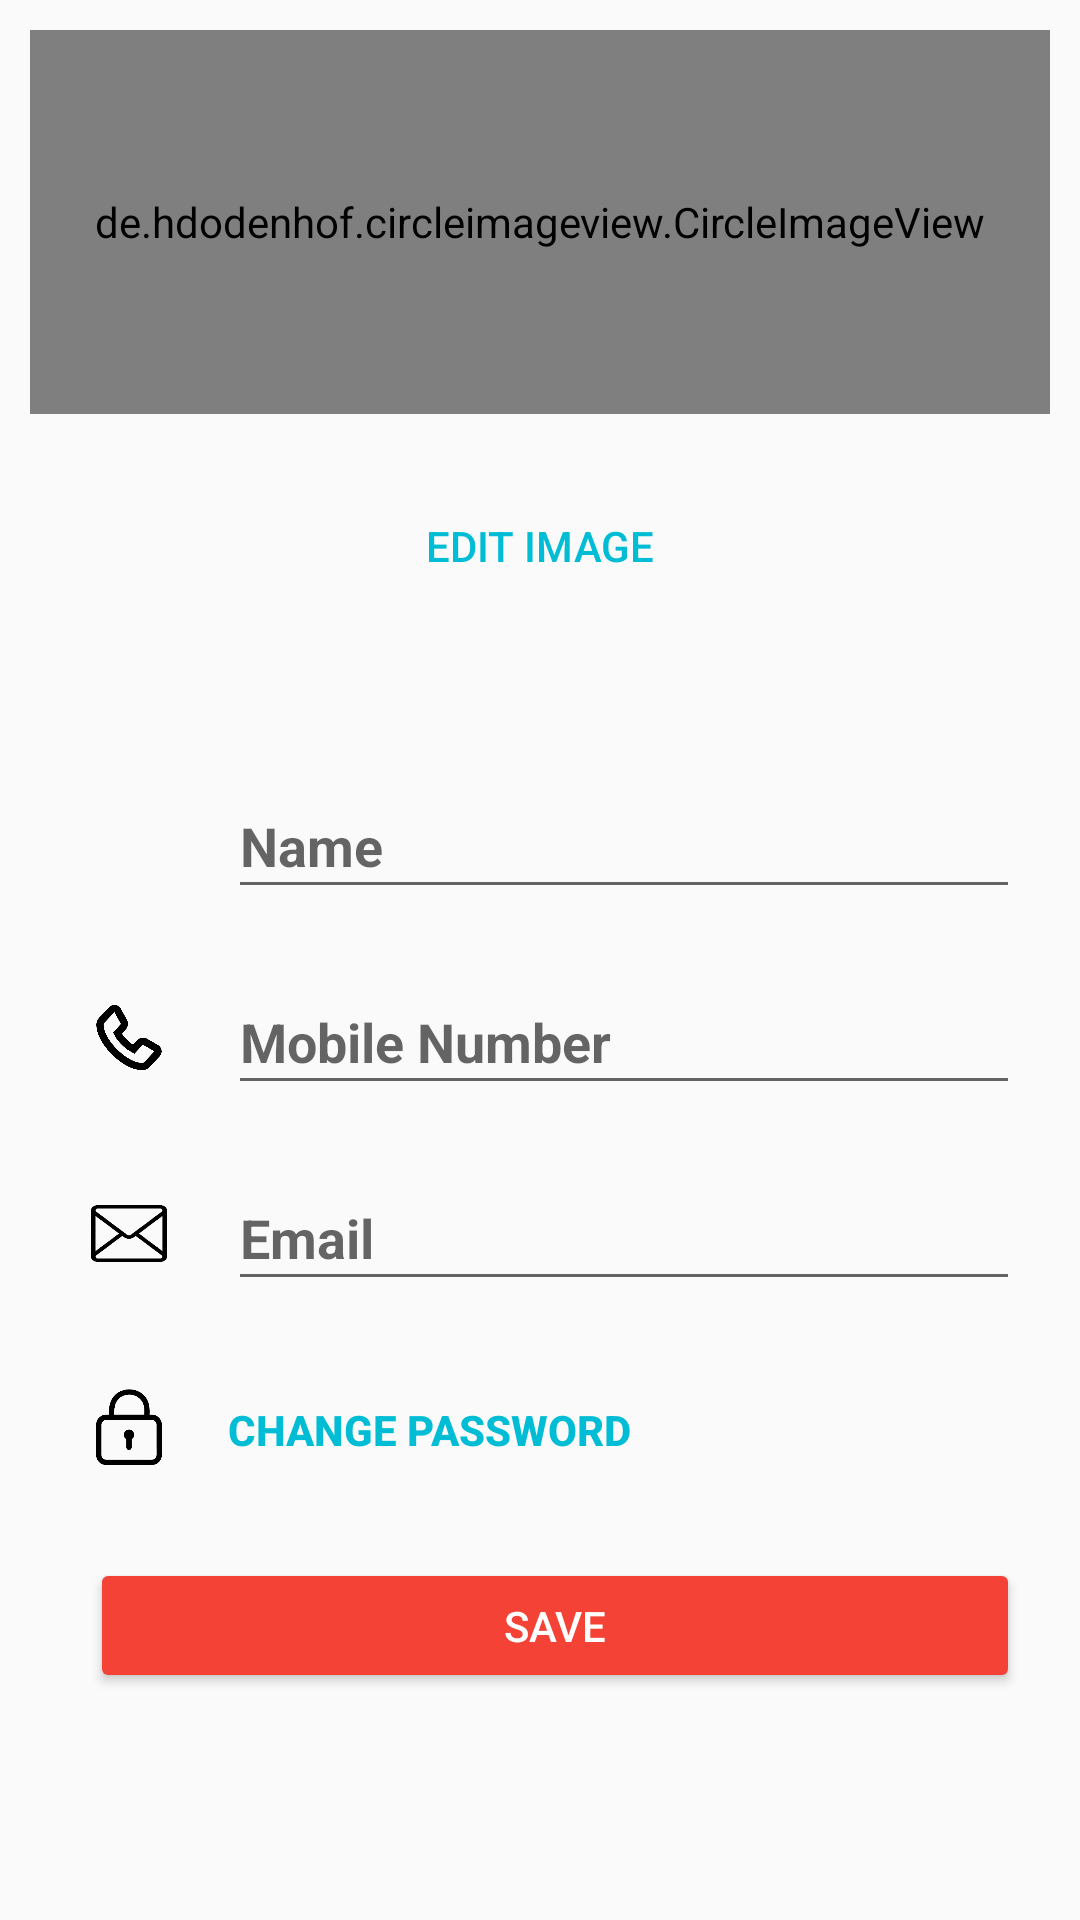

Icon click points for this 1080*1920 phone screenshot, format [x,y]:
phone mobile: [129,1037]
